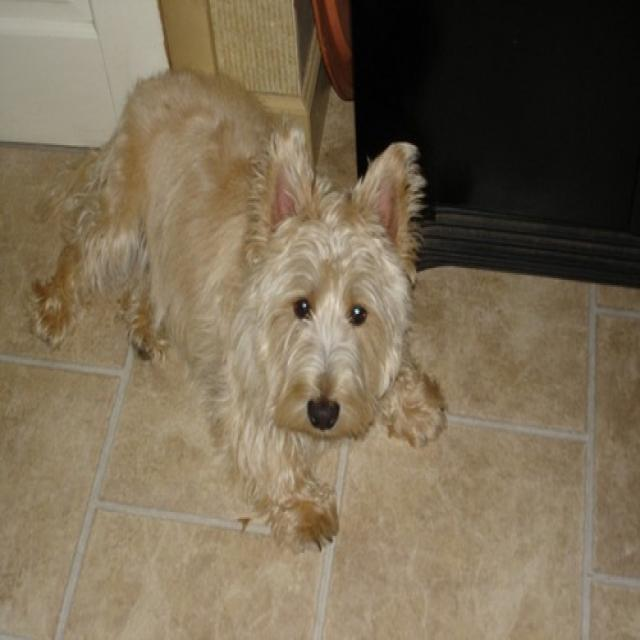dog-scottish_terrier: (22, 61, 452, 561)
